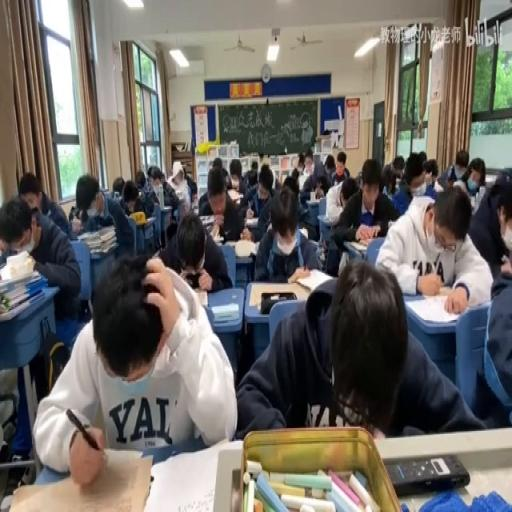calculator: (6, 451, 152, 512), (142, 442, 230, 511), (403, 293, 461, 324), (248, 282, 309, 308), (294, 264, 332, 292), (210, 300, 238, 322), (317, 210, 333, 242), (234, 238, 256, 258), (132, 213, 157, 226), (176, 195, 189, 220), (191, 287, 207, 306), (346, 239, 369, 252), (474, 185, 486, 206), (226, 188, 242, 202), (200, 213, 214, 225), (222, 240, 238, 250), (245, 215, 258, 226), (210, 232, 223, 243), (306, 195, 320, 205), (298, 226, 308, 239), (483, 174, 496, 184), (159, 203, 171, 212)
paper: (234, 256, 480, 438), (1, 183, 81, 448), (329, 158, 399, 270), (478, 273, 512, 424), (467, 169, 512, 283), (196, 165, 250, 246), (69, 171, 116, 239), (244, 168, 282, 240), (143, 164, 182, 224), (298, 155, 330, 202), (438, 148, 472, 189), (379, 155, 403, 195), (330, 151, 348, 185), (182, 168, 196, 202), (468, 158, 485, 186), (341, 184, 357, 208), (282, 174, 299, 196), (123, 185, 138, 205), (422, 158, 436, 179), (112, 176, 125, 198), (294, 152, 305, 174), (246, 166, 258, 186), (172, 159, 184, 179), (416, 151, 427, 168), (134, 171, 146, 186), (260, 154, 270, 172), (303, 148, 312, 165), (221, 166, 229, 184), (212, 155, 222, 169), (230, 168, 239, 183), (152, 175, 162, 188), (250, 158, 256, 169), (326, 164, 332, 174)
person: (384, 452, 470, 494), (182, 269, 202, 287)
